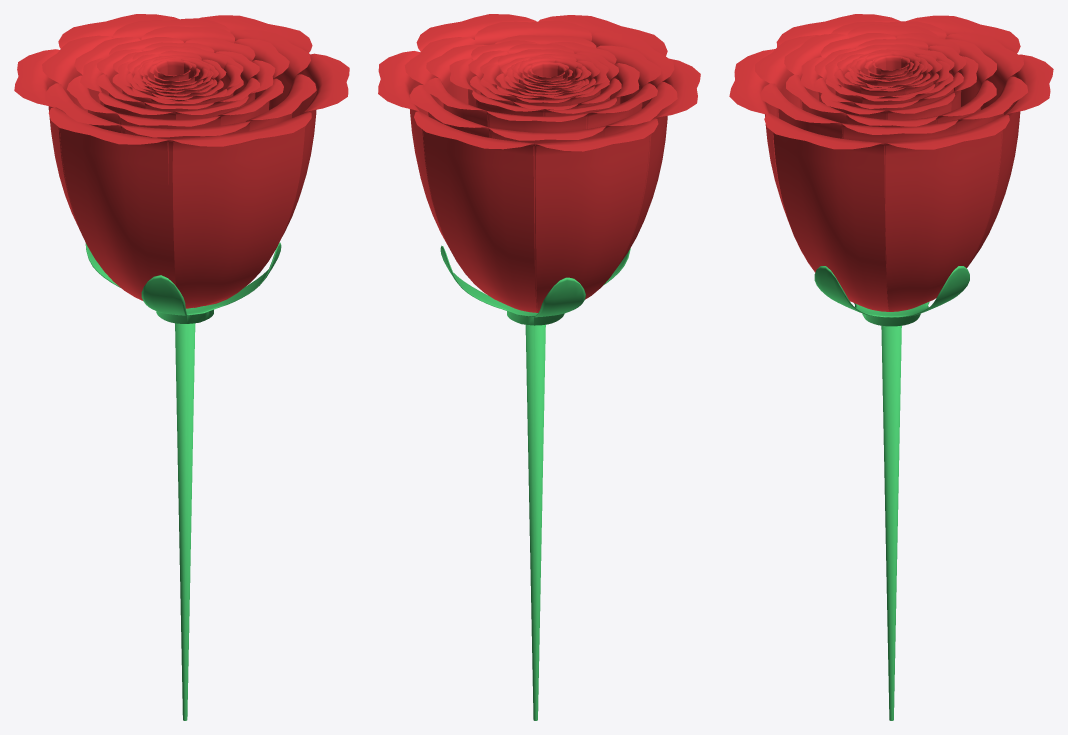
File: Rose.fbx
The picture shows the model from 3 angles, left to right: view 1: azimuth 30°, elevation 25°; view 2: azimuth 150°, elevation 25°; view 3: azimuth 270°, elevation 25°; orthographic projection.
Parts seen in each view (by area): view 1: Sphere.001, CODITA; view 2: Sphere.001, CODITA; view 3: Sphere.001, CODITA.
Boxes of the visible parts, x1,y1,x2,y2 form: Sphere.001: (14, 14, 349, 308); CODITA: (85, 242, 281, 720); Sphere.001: (378, 14, 700, 312); CODITA: (440, 245, 630, 720); Sphere.001: (729, 14, 1053, 311); CODITA: (814, 266, 969, 720).
Size of the model in its own units: 137 by 308 by 139.
